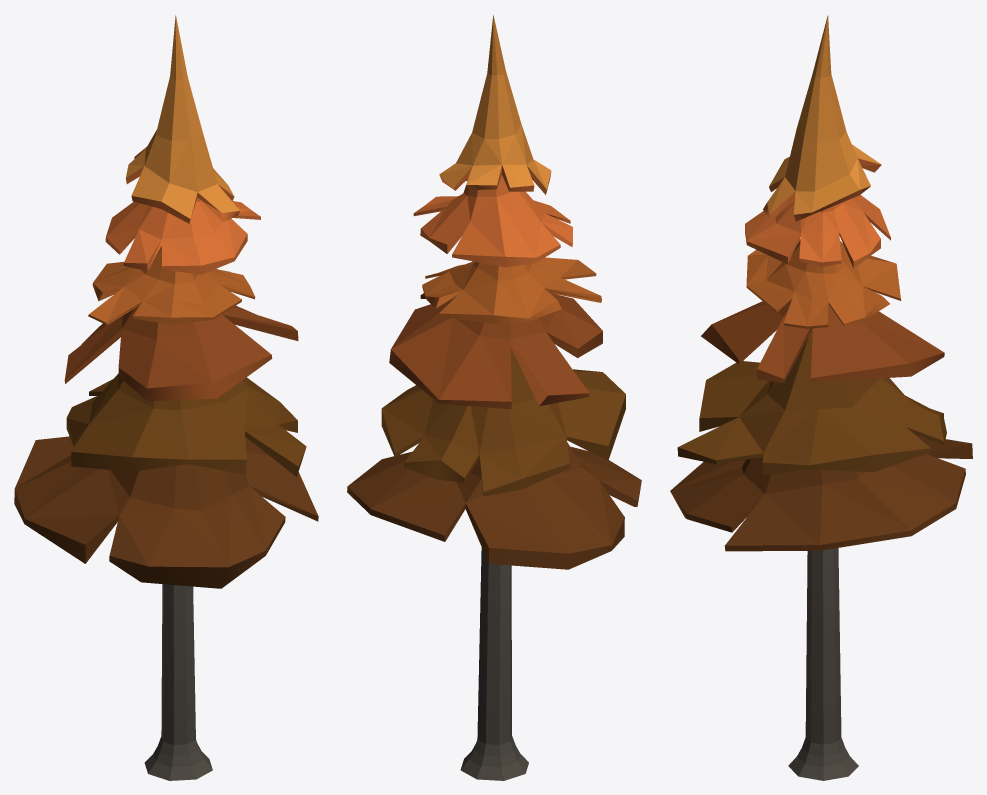
Rendered from ZLP_Plant_K_1.FBX.
The picture shows the model from 3 angles, left to right: view 1: azimuth 30°, elevation 25°; view 2: azimuth 150°, elevation 25°; view 3: azimuth 270°, elevation 25°; orthographic projection.
Visible parts, largest first — view 1: ZLP_Plant_K_1; view 2: ZLP_Plant_K_1; view 3: ZLP_Plant_K_1.
Part boxes in pixels (box(x1,y1,x2,y2)): ZLP_Plant_K_1: box(14, 15, 318, 780); ZLP_Plant_K_1: box(347, 15, 641, 780); ZLP_Plant_K_1: box(670, 15, 972, 780).
Bounding box in the file's own units: 257 × 739 × 270.
